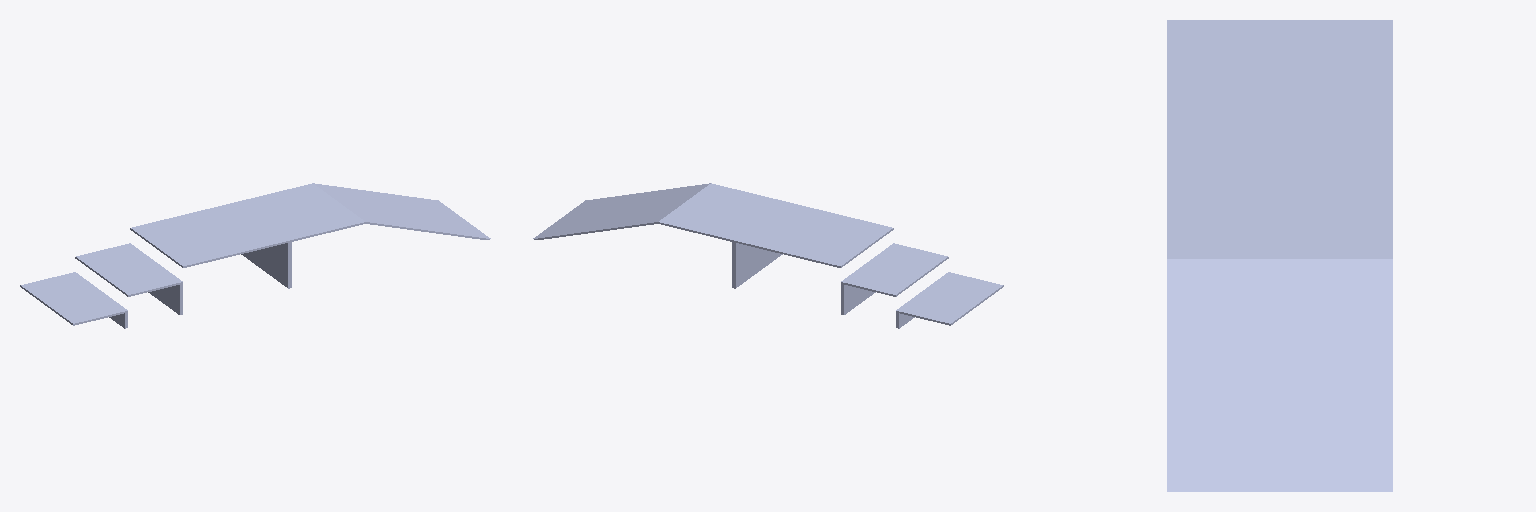
The robot description file, URDF, robot "map20xuongdoc":
<?xml version="1.0" encoding="utf-8"?>
<!-- This URDF was automatically created by SolidWorks to URDF Exporter! Originally created by [author] ([email redacted]) 
     Commit Version: 1.6.0-1-g15f4949  Build Version: 1.6.7594.29634
     For more information, please see http://wiki.ros.org/sw_urdf_exporter -->
<robot
  name="map20xuongdoc">
  <link
    name="base_link">
    <inertial>
      <origin
        xyz="-0.0523619890145848 -2.22044604925031E-16 -0.0978743536537076"
        rpy="0 0 0" />
      <mass
        value="16.14828644232" />
      <inertia
        ixx="0.416129473392037"
        ixy="4.49850044144096E-16"
        ixz="0.228576450261184"
        iyy="2.18488156568107"
        iyz="-2.93376007944447E-17"
        izz="2.44159736071904" />
    </inertial>
    <visual>
      <origin
        xyz="0 0 0"
        rpy="0 0 0" />
      <geometry>
        <mesh
          filename="package://map20xuongdoc/meshes/base_link.STL" />
      </geometry>
      <material
        name="">
        <color
          rgba="0.792156862745098 0.819607843137255 0.933333333333333 1" />
      </material>
    </visual>
    <collision>
      <origin
        xyz="0 0 0"
        rpy="0 0 0" />
      <geometry>
        <mesh
          filename="package://map20xuongdoc/meshes/base_link.STL" />
      </geometry>
    </collision>
  </link>
</robot>

--- What the picture shows (computed from the rendered views, not written in the file) ---
The picture shows the robot from 3 angles, left to right: view 1: azimuth 30°, elevation 25°; view 2: azimuth 150°, elevation 25°; view 3: azimuth 270°, elevation 25°; orthographic projection.
Robot: map20xuongdoc — 1 links, 0 joints (none); root link base_link; default pose: every joint at zero.
Links seen in each view (by area): view 1: base_link; view 2: base_link; view 3: base_link.
Link boxes in pixels (left/top/right/bottom): base_link: left=20, top=183, right=490, bottom=328; base_link: left=533, top=183, right=1003, bottom=328; base_link: left=1167, top=20, right=1392, bottom=491.
Size in the robot's own frame: 2.28 by 0.5 by 0.25 metres.
1 mesh visuals loaded from 1 distinct referenced files (1 binary STL).